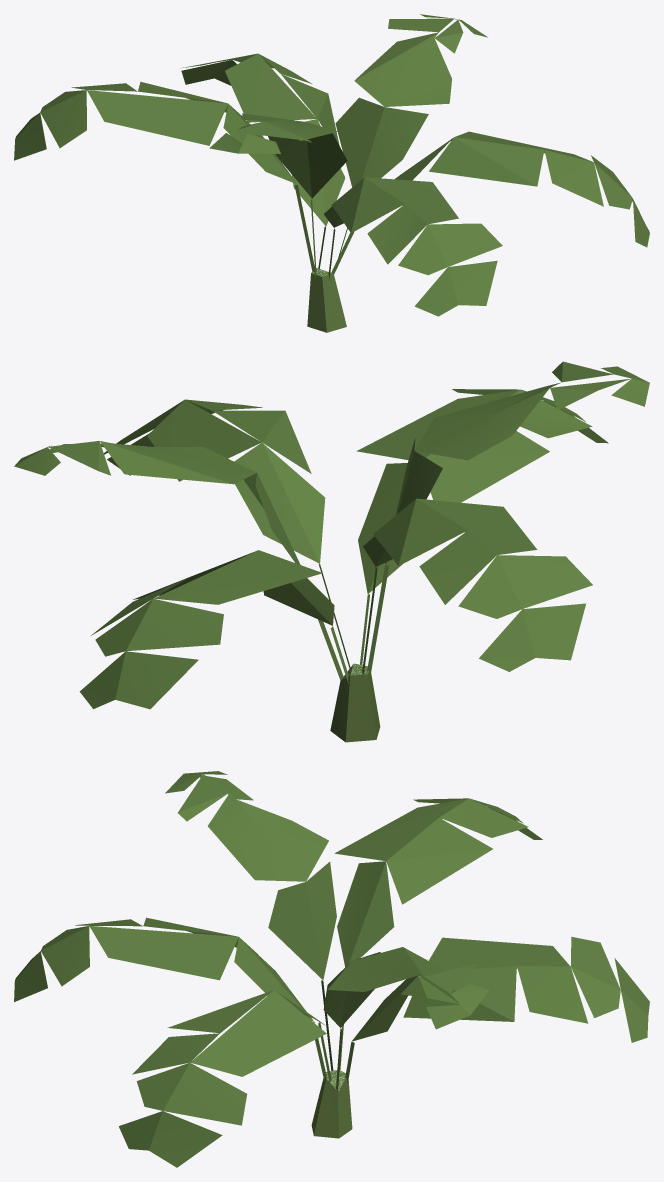
The model's file is Plant_Fern_02.fbx.
3 renders of one model, top to bottom at view 1: azimuth 30°, elevation 25°; view 2: azimuth 150°, elevation 25°; view 3: azimuth 270°, elevation 25°, orthographic. The views are drawn at different scales.
Parts seen in each view (by area): view 1: Plant_Fern_02; view 2: Plant_Fern_02; view 3: Plant_Fern_02.
Part boxes in pixels (<box>): Plant_Fern_02: <box>14,14,649,332</box>; Plant_Fern_02: <box>14,361,649,742</box>; Plant_Fern_02: <box>14,771,649,1167</box>.
Bounding box in the file's own units: 83.98 × 44.07 × 89.52.
